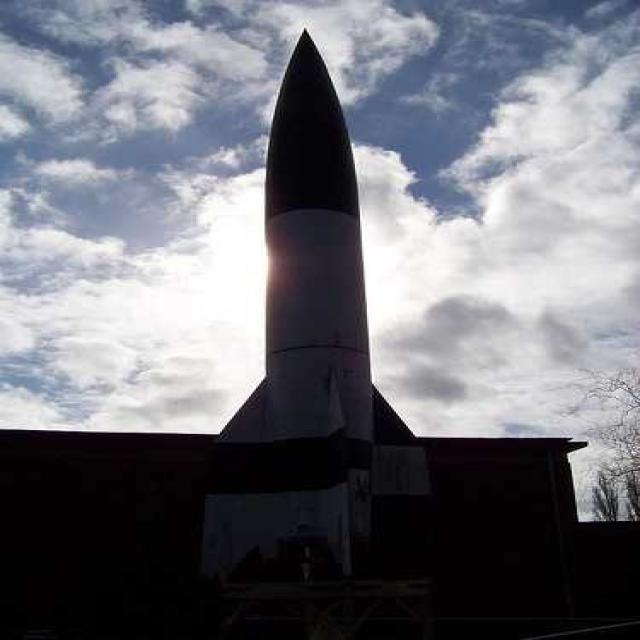missile: (196, 24, 448, 598)
